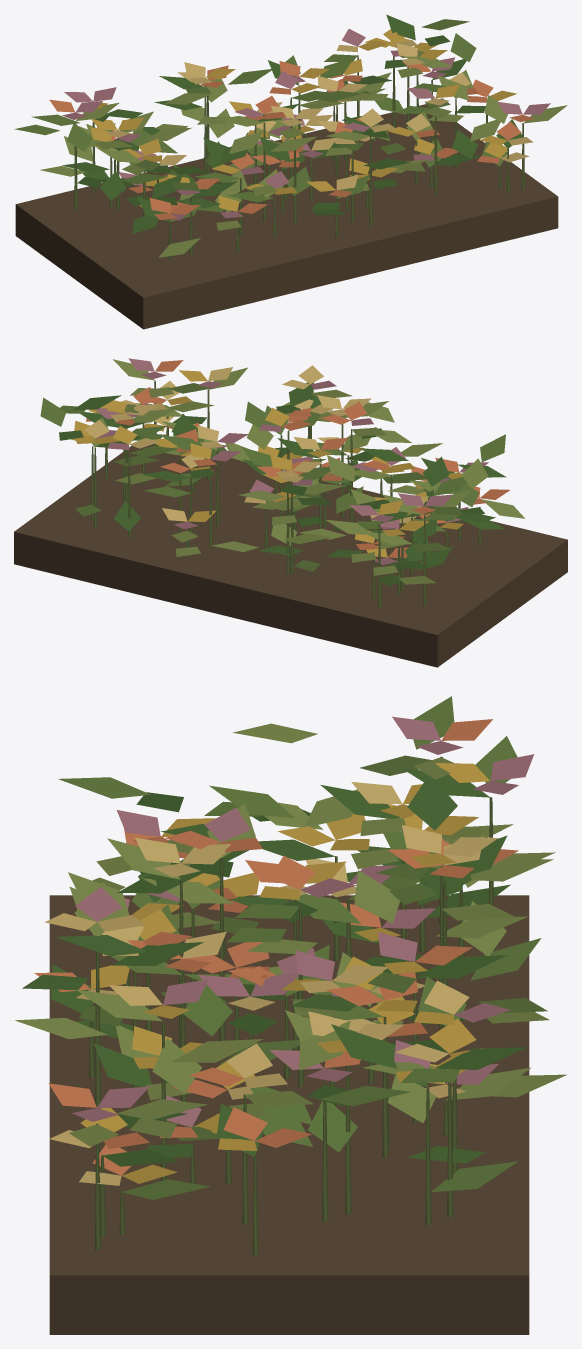
File: flower_bed.glb
3 views of the same model, one above another, from view 1: azimuth 30°, elevation 25°; view 2: azimuth 150°, elevation 25°; view 3: azimuth 270°, elevation 25° (orthographic). The views are drawn at different scales.
Parts seen in each view (by area): view 1: veg_flower_bed_lod0; view 2: veg_flower_bed_lod0; view 3: veg_flower_bed_lod0.
Boxes of the visible parts, left/top/right/bottom form: veg_flower_bed_lod0: left=14, top=14, right=567, bottom=329; veg_flower_bed_lod0: left=14, top=358, right=567, bottom=667; veg_flower_bed_lod0: left=15, top=696, right=566, bottom=1334.
Size of what is drawn, in the model's own units: 1.6 by 0.5081 by 0.9245.
